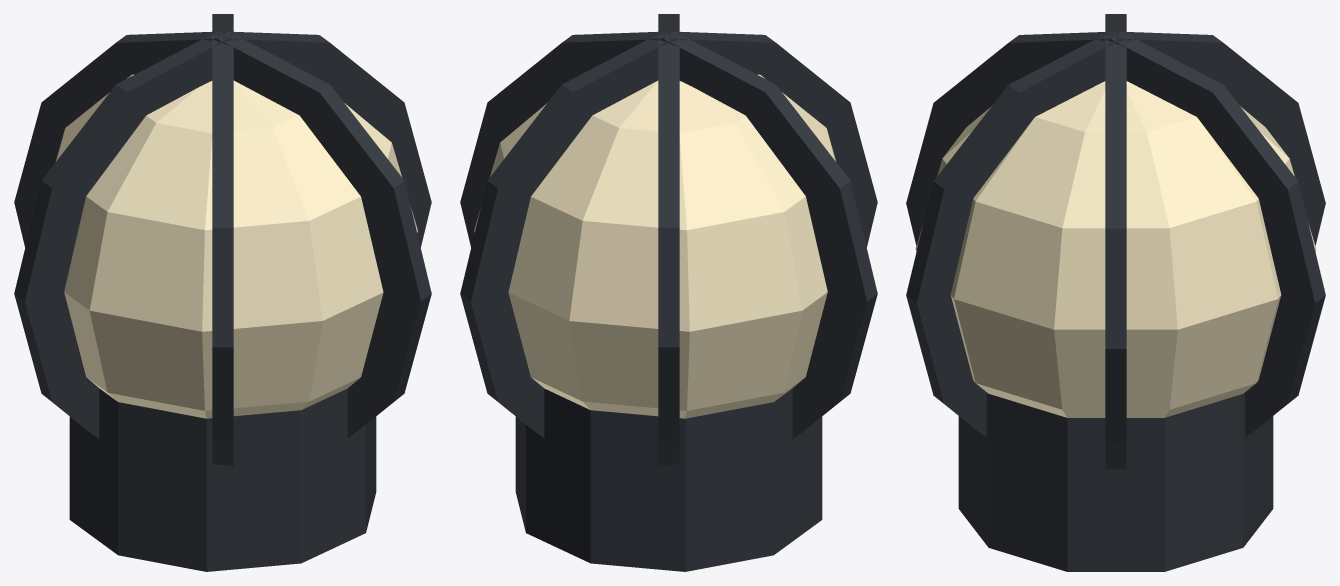
Rendered from prop_lift_light.glb.
3 views of the same model, side by side, from view 1: azimuth 30°, elevation 25°; view 2: azimuth 150°, elevation 25°; view 3: azimuth 270°, elevation 25° (orthographic).
Parts seen in each view (by area): view 1: prop_lift_light; view 2: prop_lift_light; view 3: prop_lift_light.
Boxes of the visible parts, x1=… form: prop_lift_light: x1=14, y1=14, x2=431, y2=571; prop_lift_light: x1=460, y1=14, x2=877, y2=571; prop_lift_light: x1=906, y1=14, x2=1325, y2=571.
Bounding box in the file's own units: 0.33 × 0.365 × 0.2933.
1 material, 1 textured.
